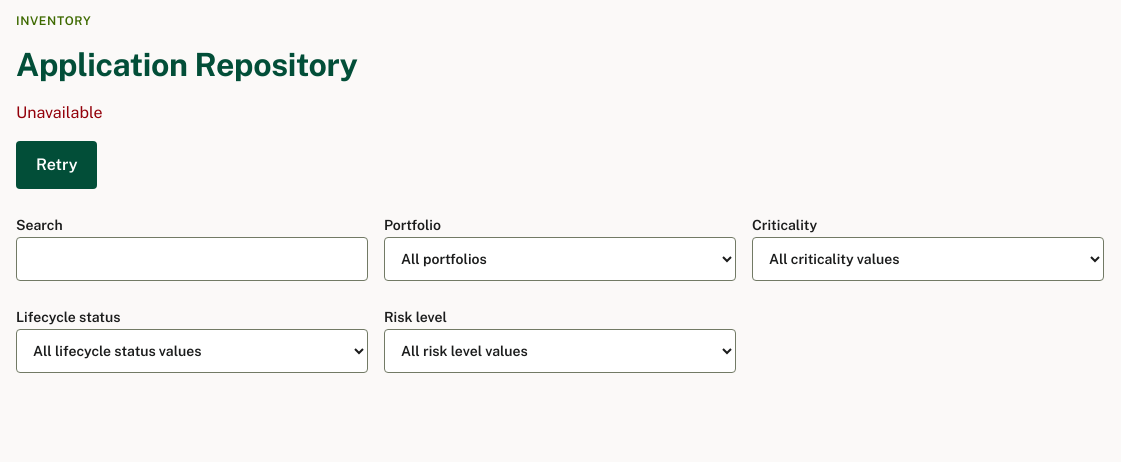
it: reports a backend error and retries
Check: the message reads "Unavailable", box [16,103,102,122]
Click the button "Retry" at (57, 165), box [16,141,98,189]
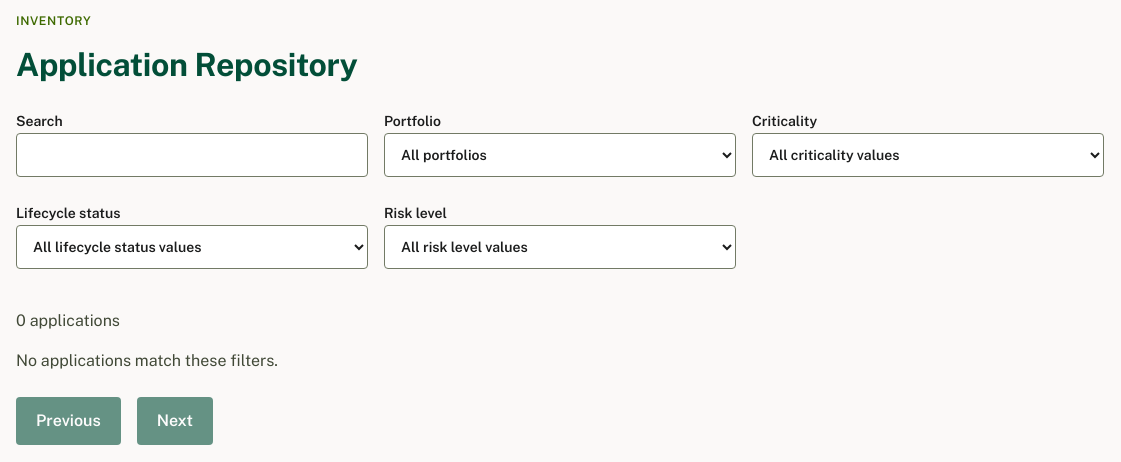
Check: the text "No applications match these filters." is shown, box [16,351,278,370]
